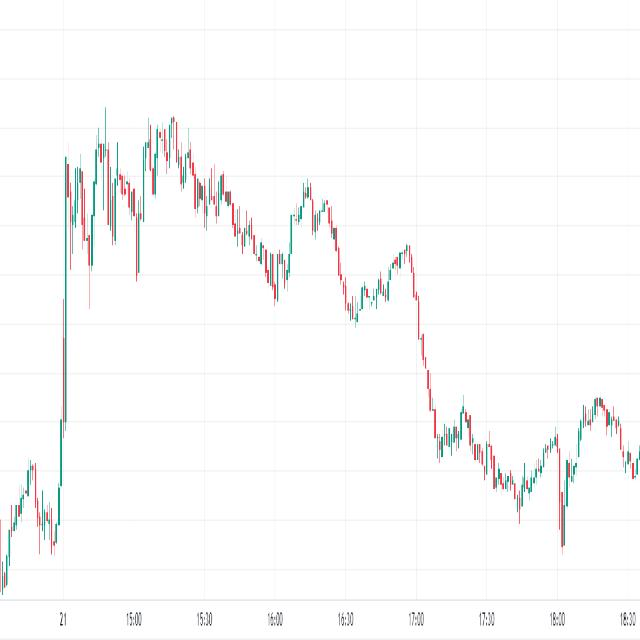Descending-Triangle: (52, 43, 434, 323)
Double-Bottom: (30, 450, 64, 562)
Double-Top: (284, 172, 346, 297), (59, 143, 88, 255)
